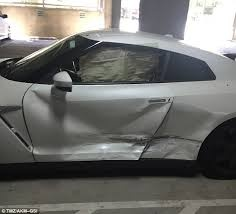Broken-glass: (67, 43, 164, 86)
Dent: (24, 94, 216, 163)
Scratch: (83, 132, 200, 149)
